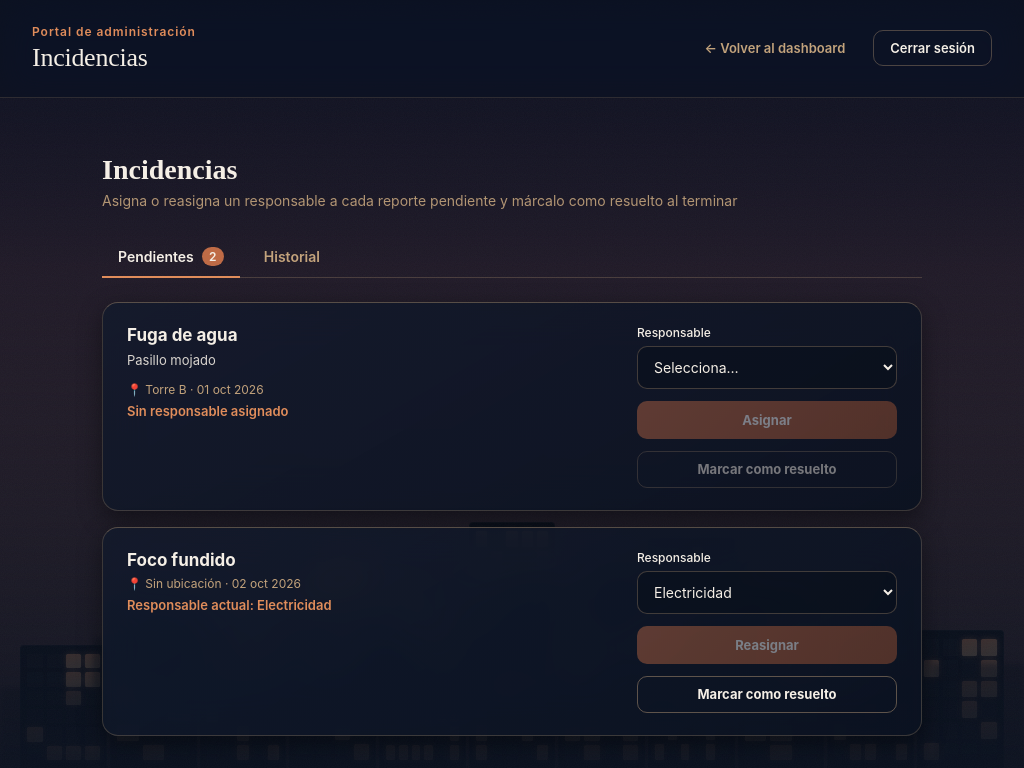
Test: CU-08 pendientes › muestra el error al asignar en la tarjeta
The width and height of the screenshot is (1024, 768).
Expected: the heading "Fuga de agua" is shown, [127,325,238,345]
Select "Plomería" in the dropdown labelled "Responsable" in the row of "Pasillo mojado". click: x=767, y=367
box: [637,346,897,389]
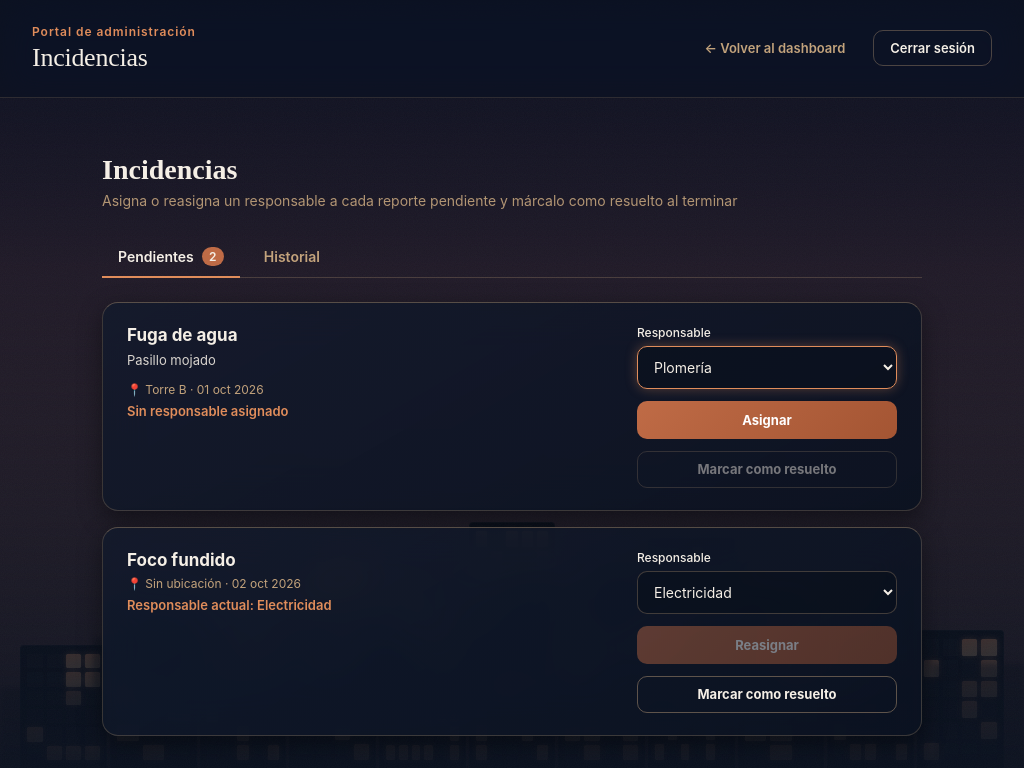
Click the button "Asignar". click: x=767, y=420
box: [637,401,897,439]
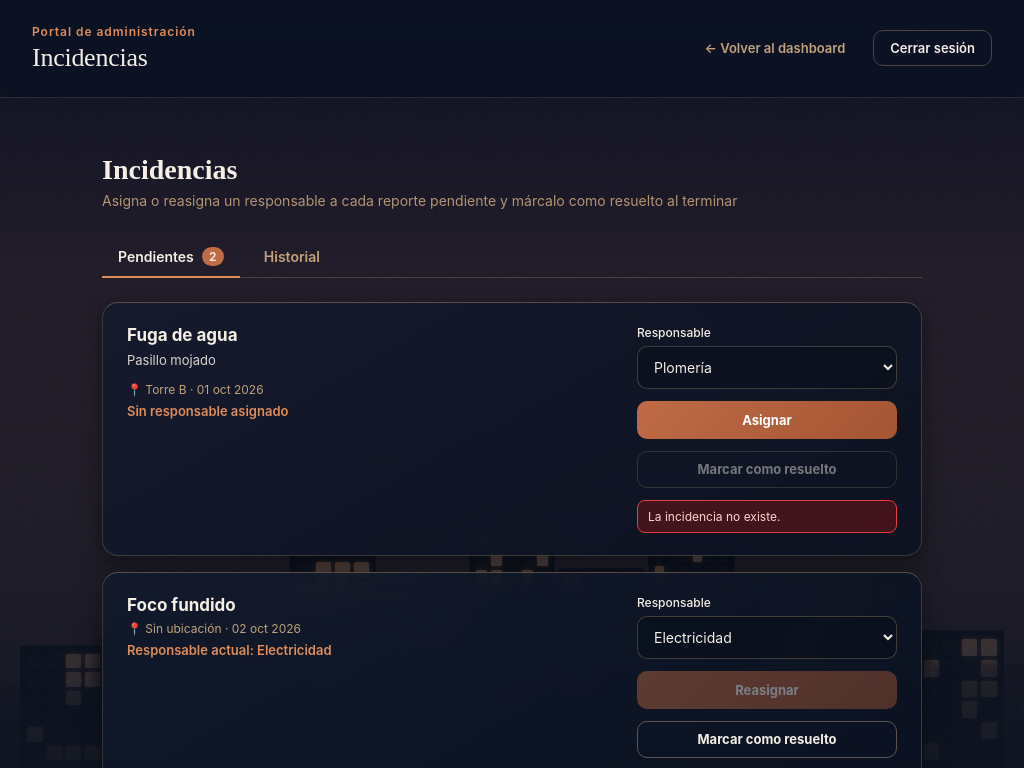
Expected: the message reads "La incidencia no existe.", [648,509,780,524]
